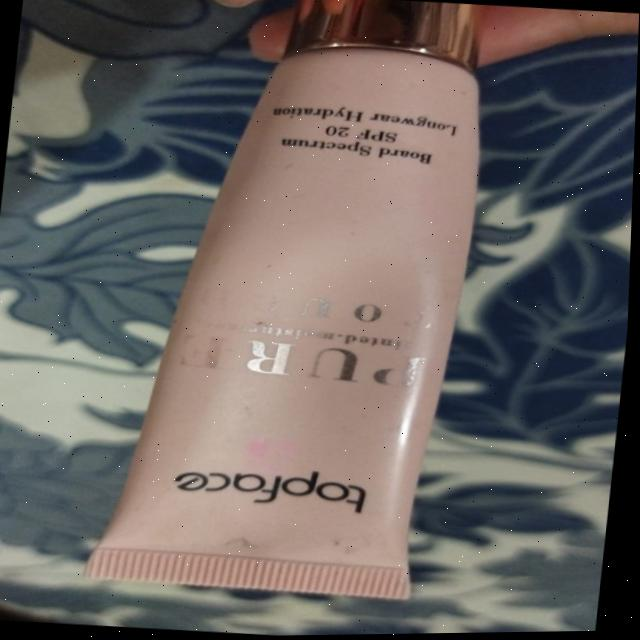primer: (72, 0, 533, 639)
